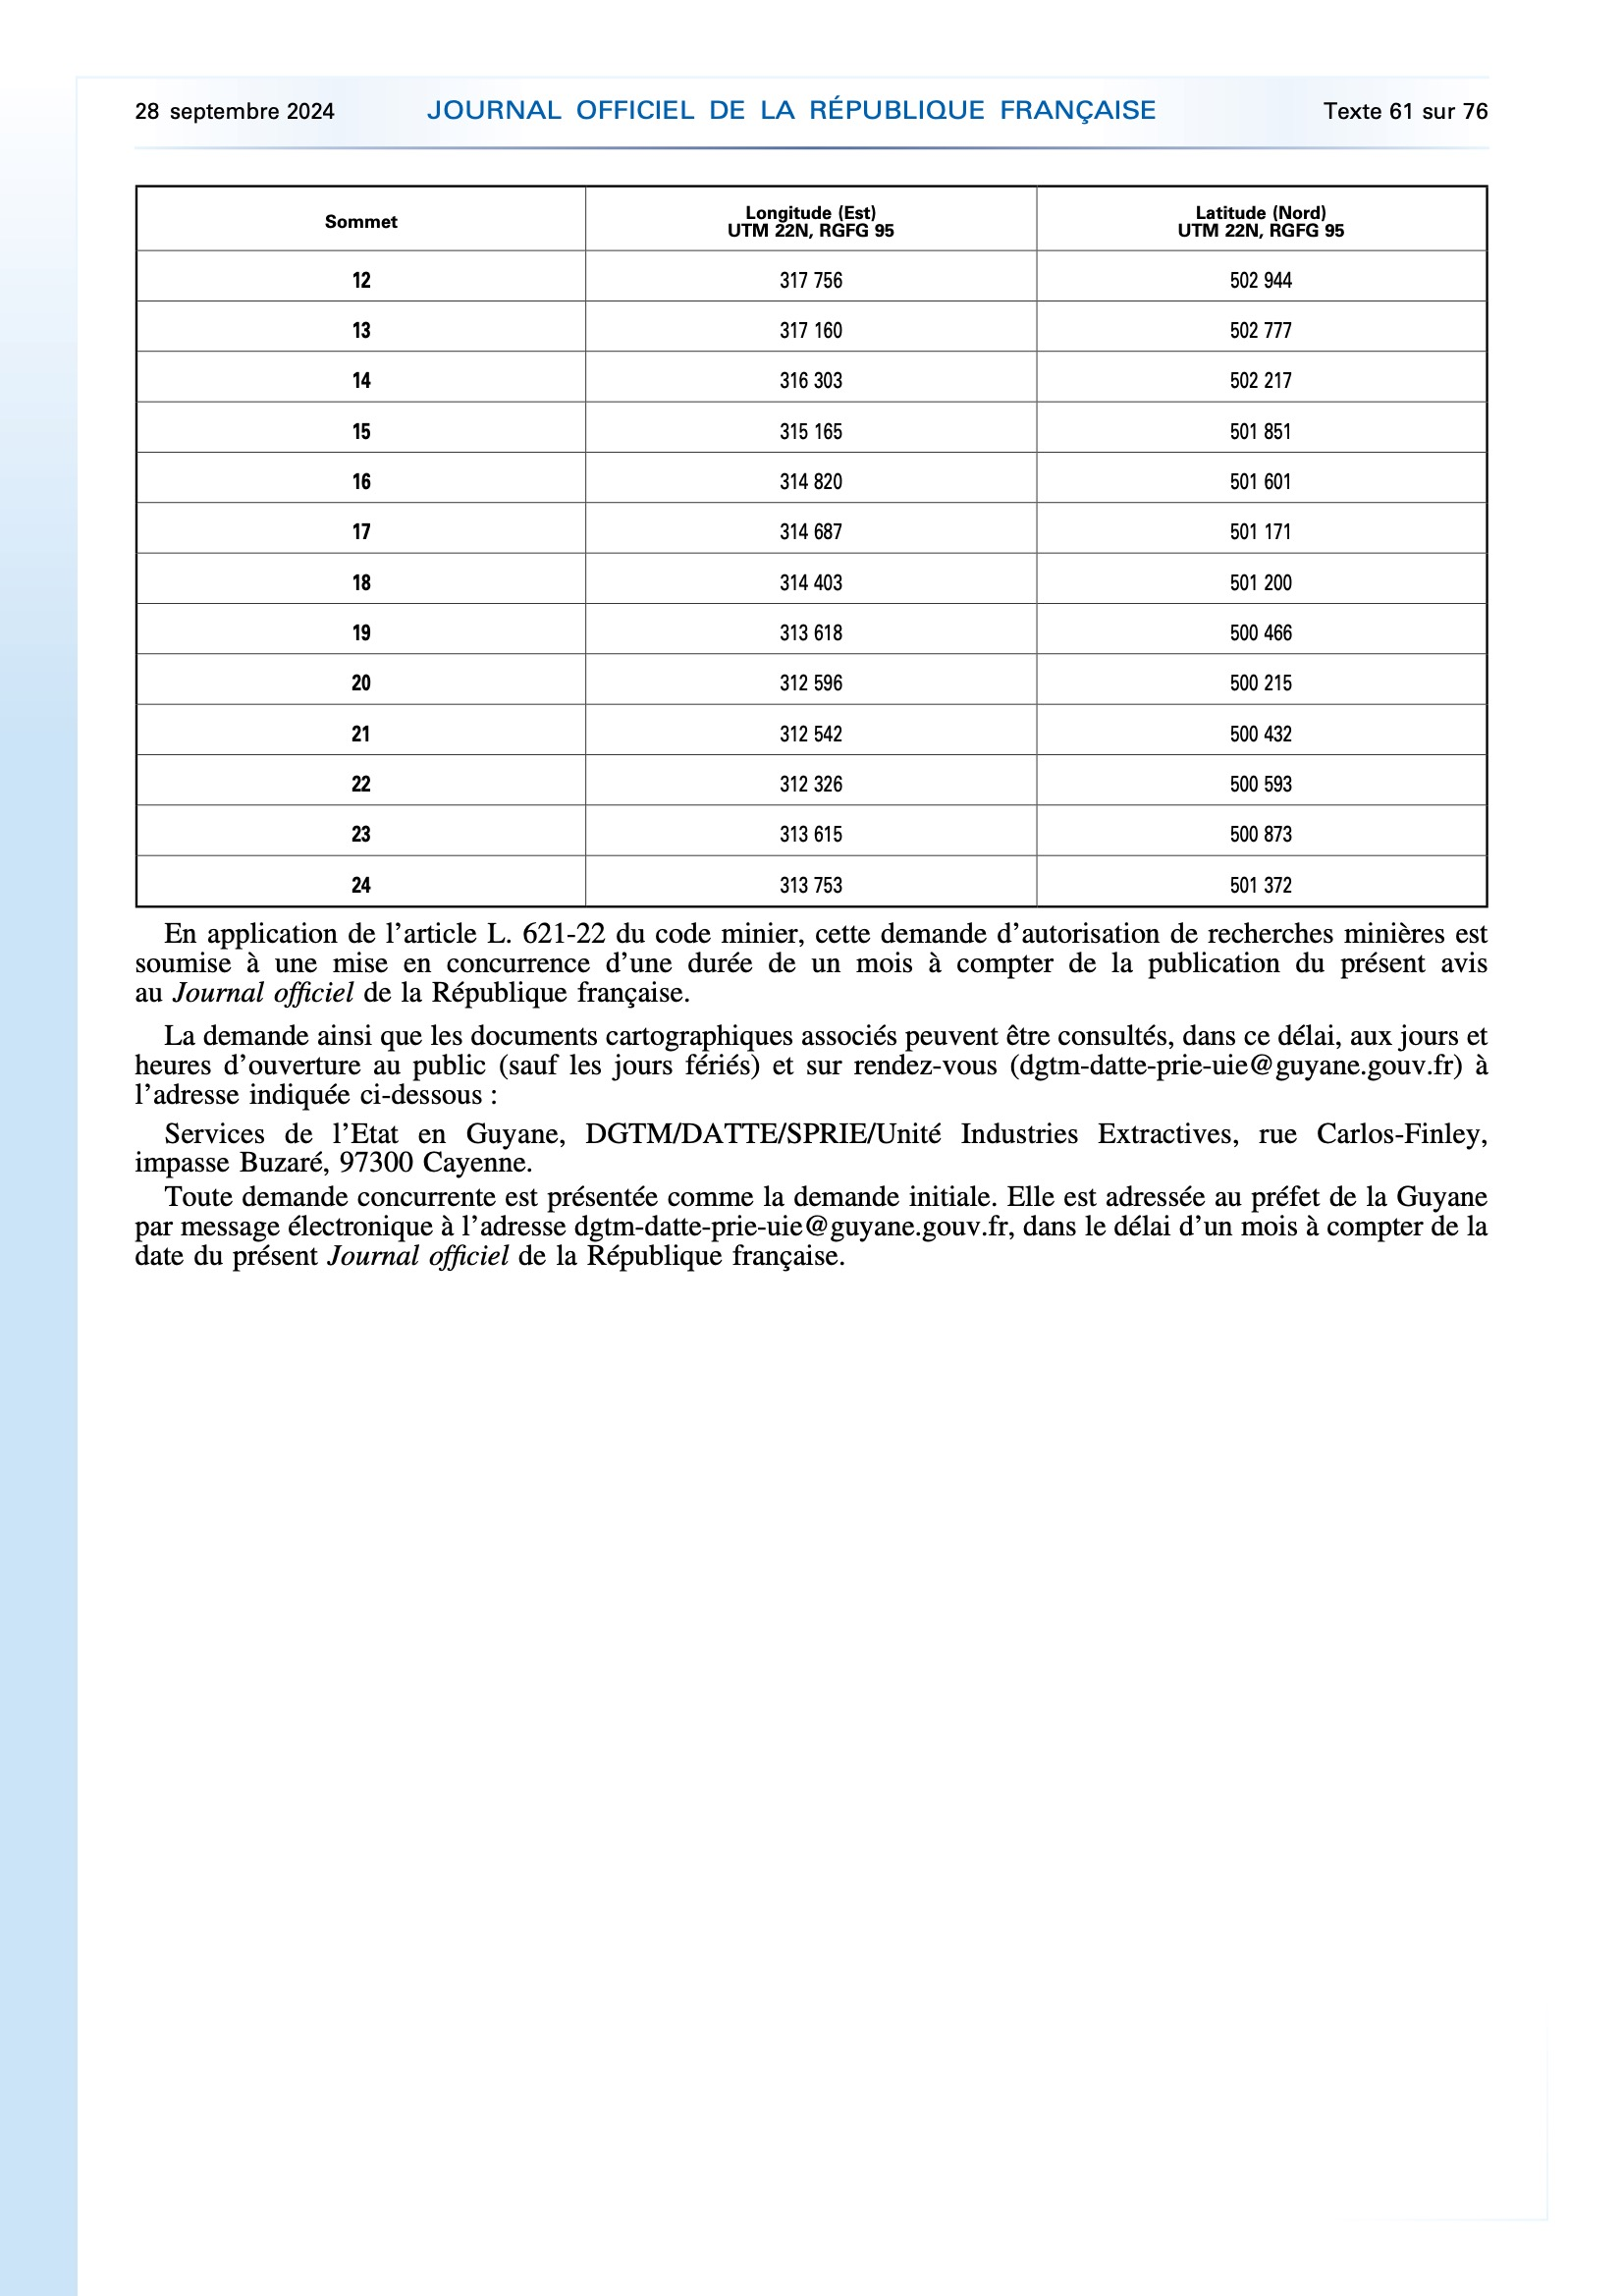MainZone-Date: (126, 87, 342, 129)
MainZone-P: (124, 1178, 1497, 1287), (126, 913, 1508, 1015), (123, 1017, 1499, 1115), (126, 1121, 1494, 1179)
StampZone: (401, 86, 1171, 131)
TableZone-Head: (120, 181, 1498, 908)
TitlePageZone: (1293, 87, 1497, 131)
